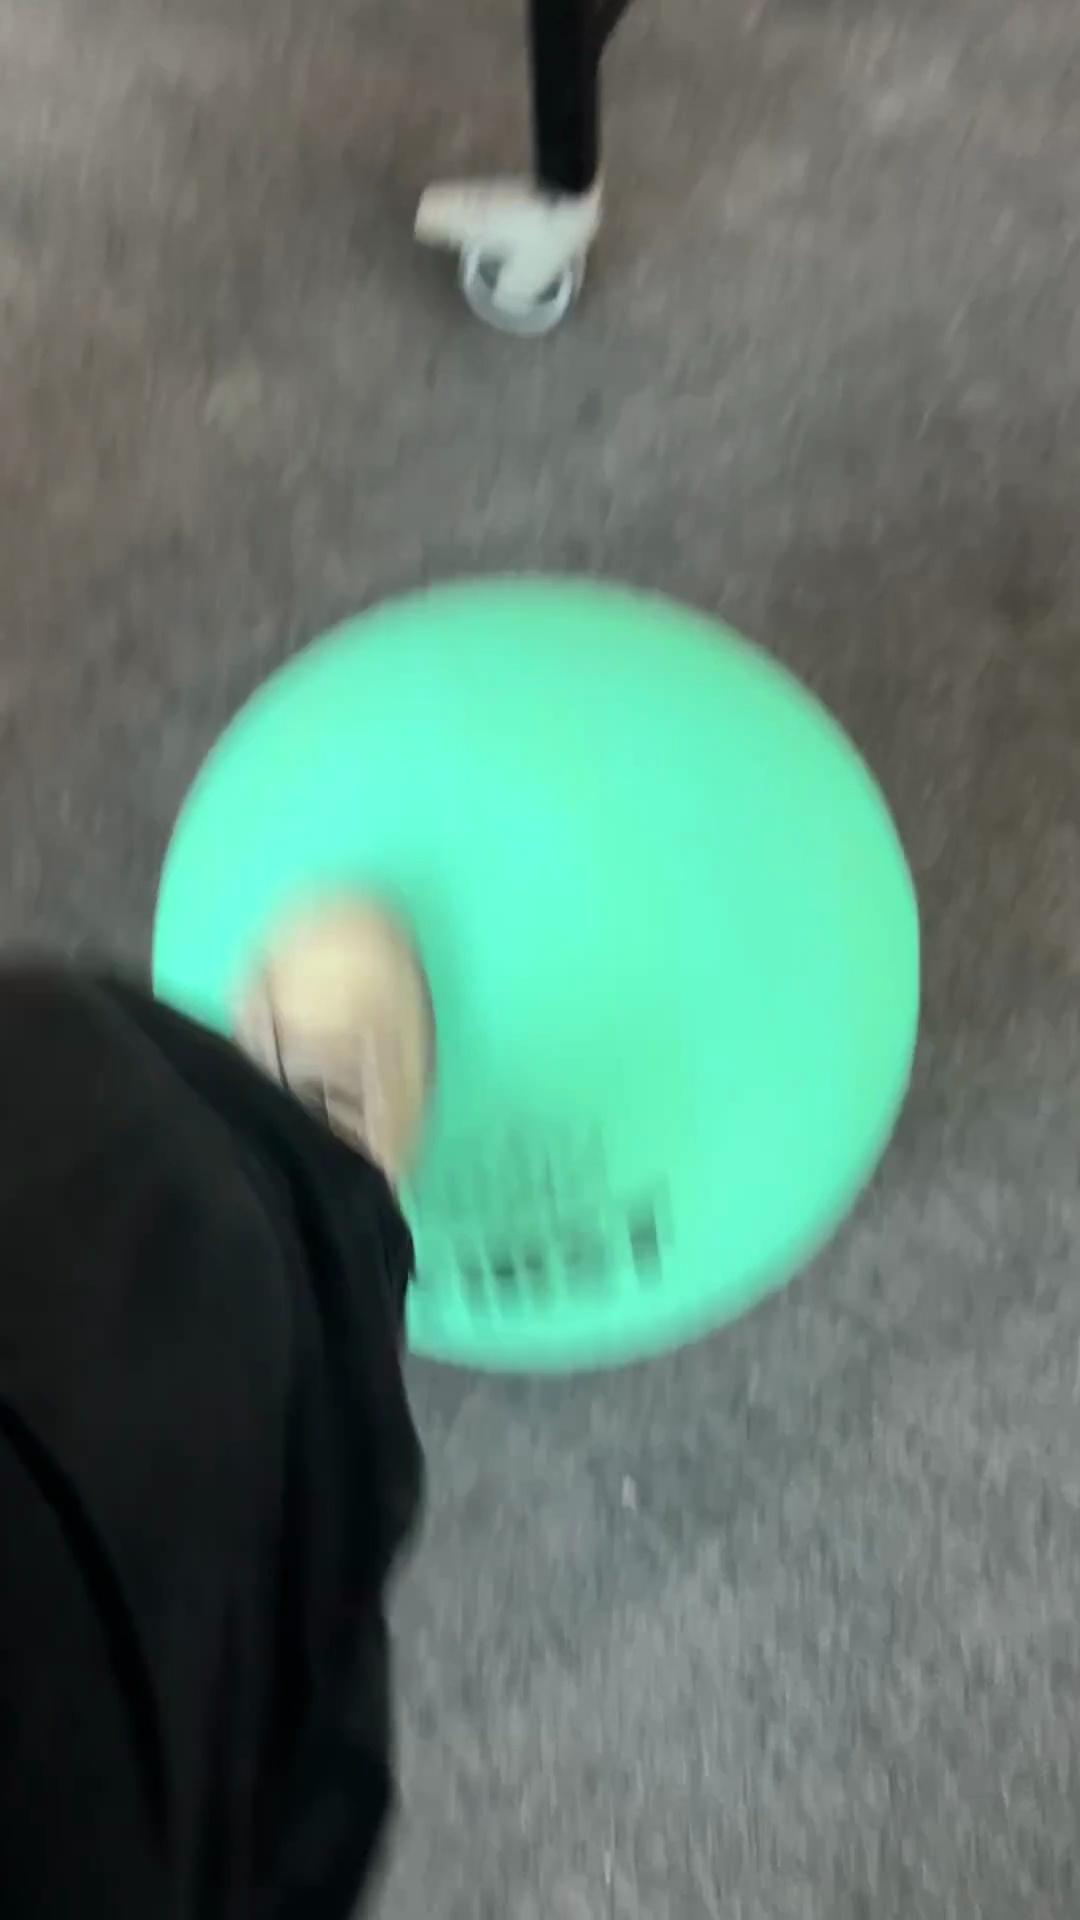ALGAE: (146, 568, 923, 1375)
